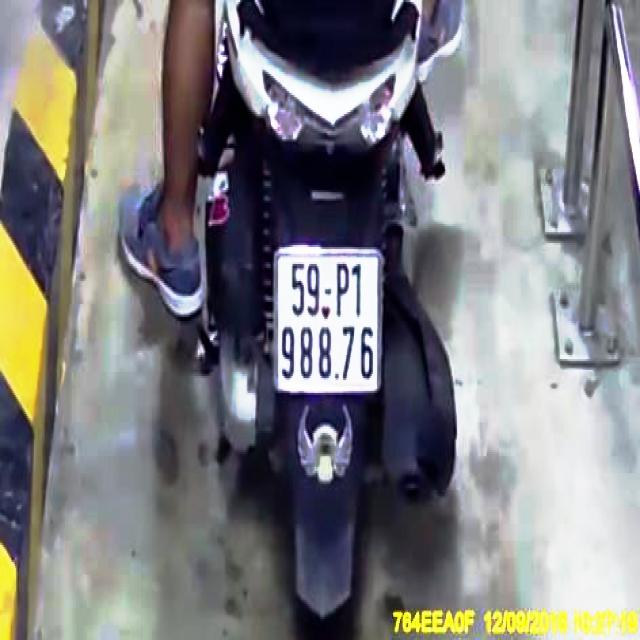license_plate: (275, 249, 383, 398)
